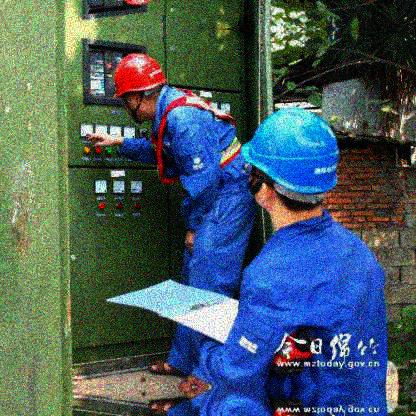helmet: (241, 107, 339, 223), (111, 51, 166, 123)
